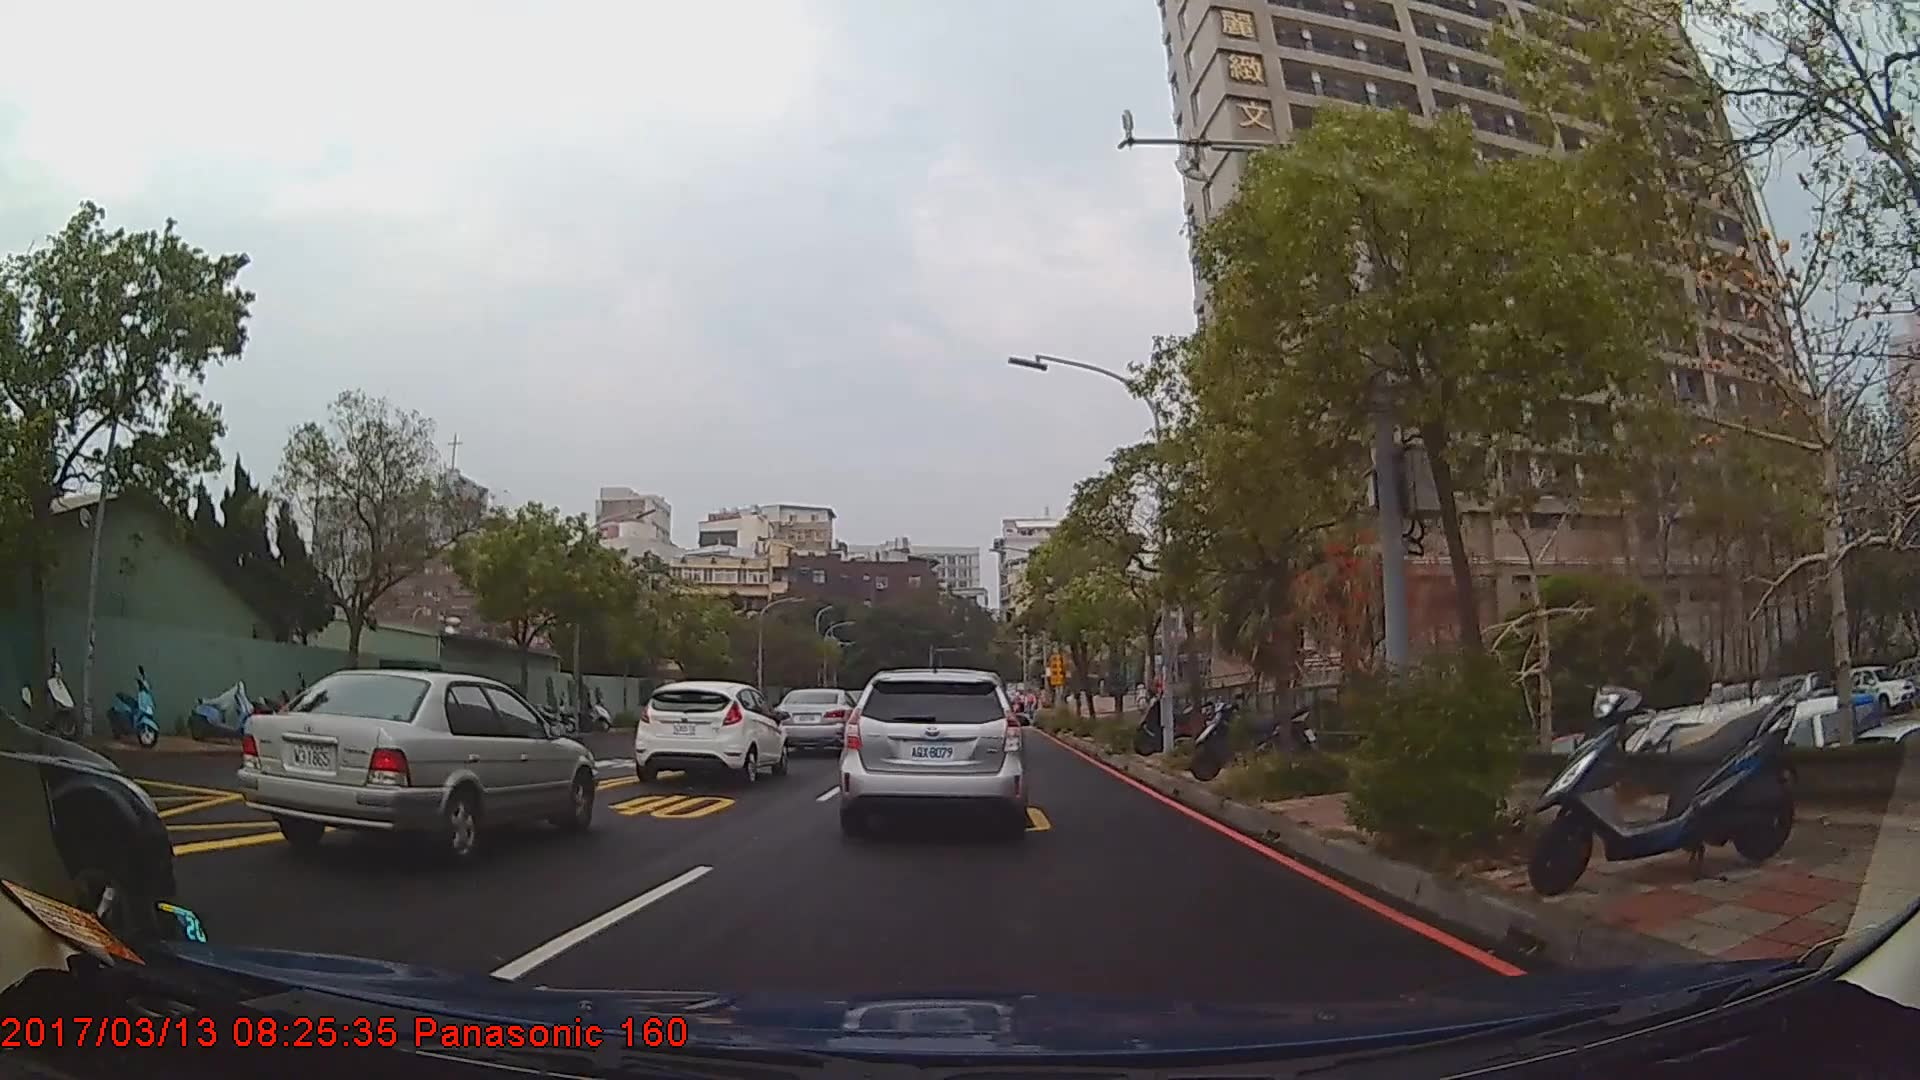vehicle: (231, 669, 597, 861), (0, 698, 174, 951), (837, 667, 1025, 827), (632, 679, 790, 781), (771, 687, 858, 753)
